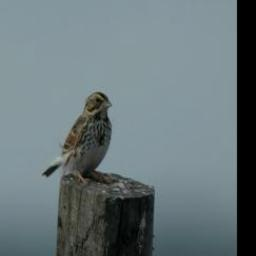Sparrow: (41, 90, 115, 186)
